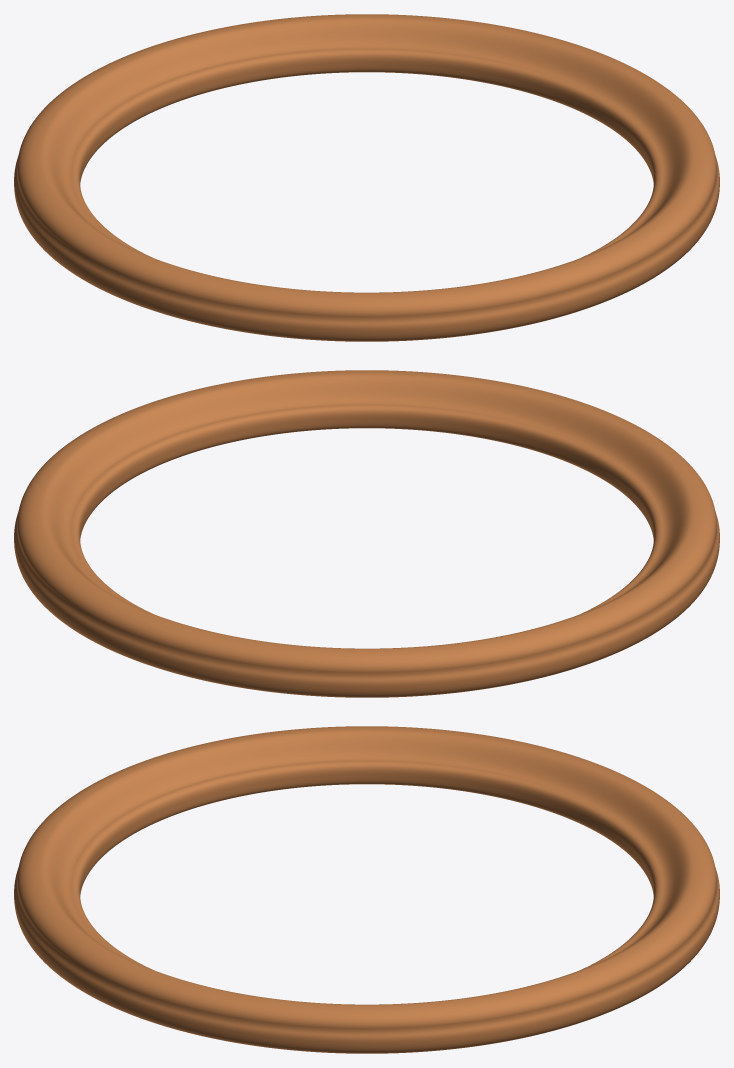
File: exhaust-header-gasket-v1-geometry.glb
The picture shows the model from 3 angles, top to bottom: view 1: azimuth 30°, elevation 25°; view 2: azimuth 150°, elevation 25°; view 3: azimuth 270°, elevation 25°; orthographic projection.
Parts seen in each view (by area): view 1: JE591002 related annular exterior - unmounted candidate; view 2: JE591002 related annular exterior - unmounted candidate; view 3: JE591002 related annular exterior - unmounted candidate.
Part boxes in pixels (x1,y1,x2,y2): JE591002 related annular exterior - unmounted candidate: [14, 14, 719, 341]; JE591002 related annular exterior - unmounted candidate: [14, 370, 719, 697]; JE591002 related annular exterior - unmounted candidate: [14, 726, 719, 1053].
Size of the model in its own units: 0.032 by 0.002 by 0.032.
